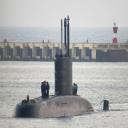submarine: (13, 14, 114, 119)
